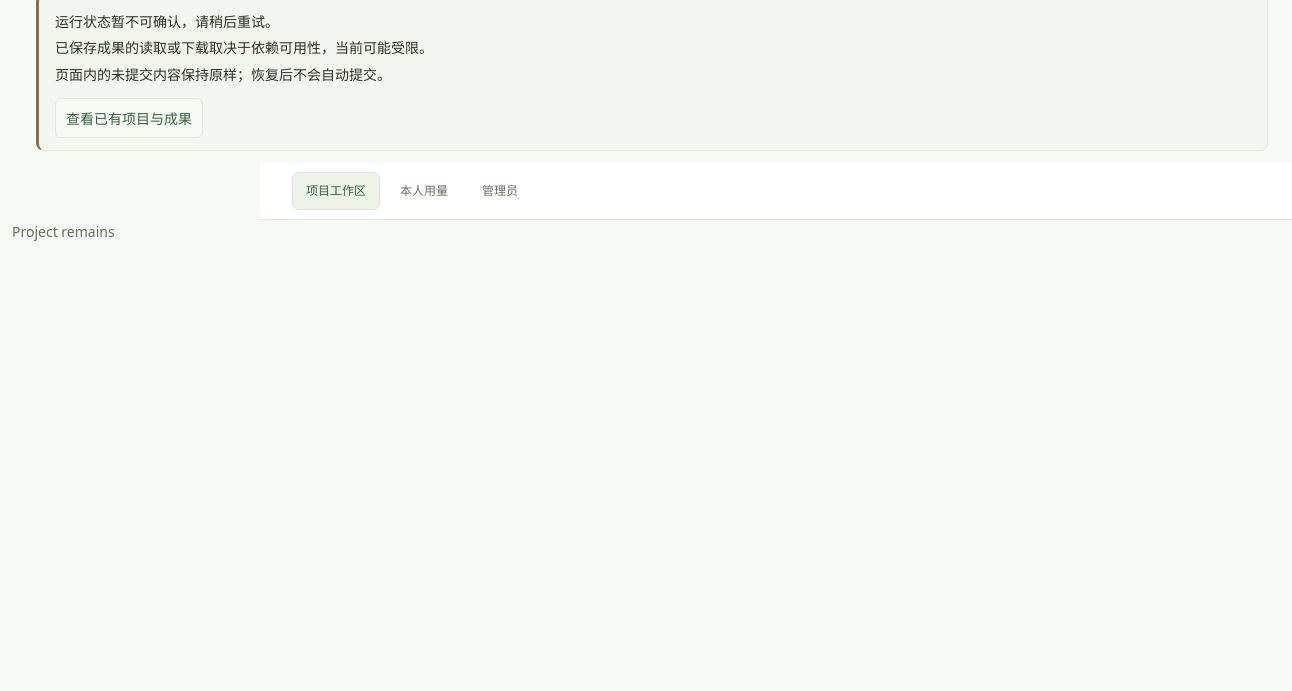
Test: removes retained privileged content after server role revocation
The width and height of the screenshot is (1292, 691).
Click the button "管理员" at (500, 191), box [468,172,532,210]
(page scrolled)
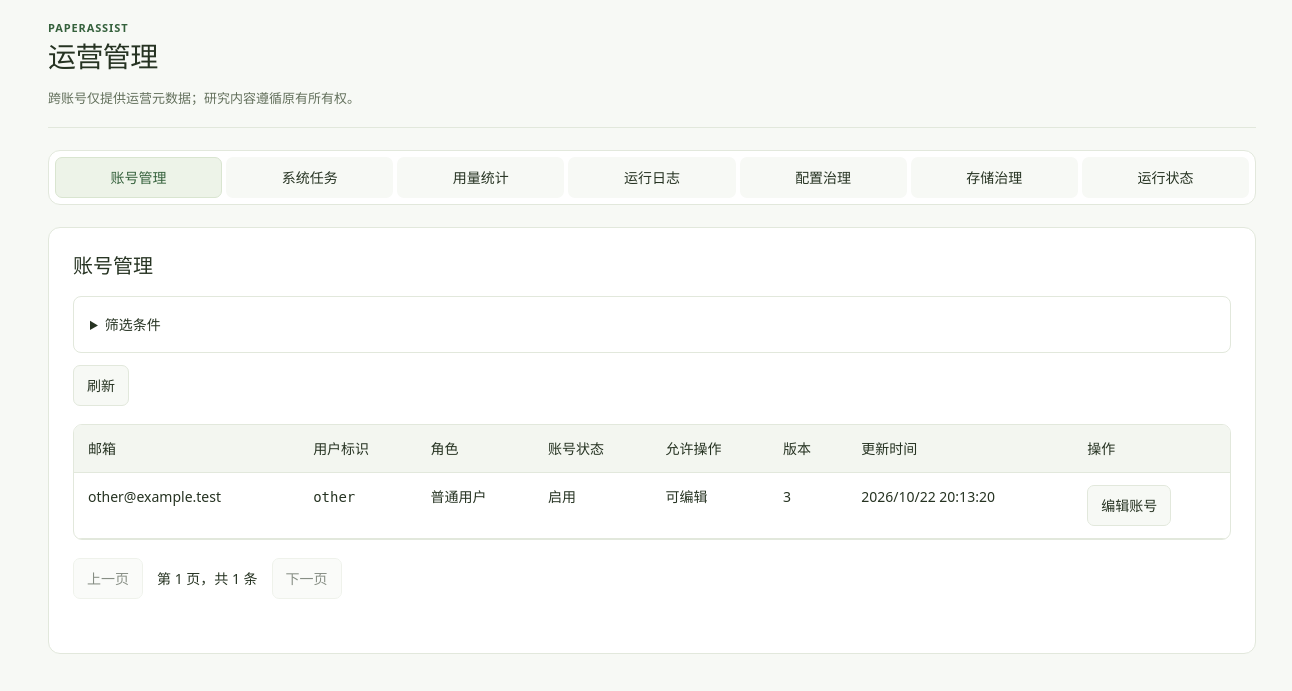
Expected: the text "other@example.test" is shown, [74,472,299,538]
Click the button "编辑账号" at (1129, 505), box [1087,485,1171,526]
(page scrolled)
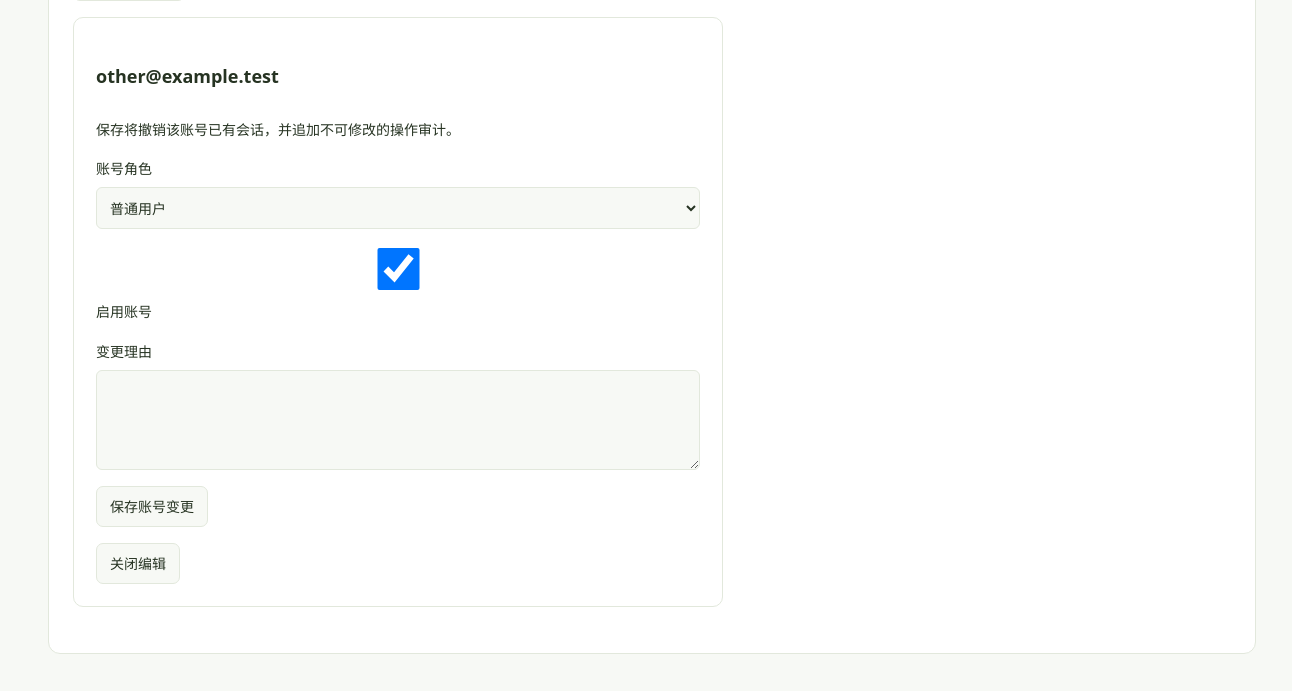
Type "Privileged draft" into the text box labelled "变更理由" at (398, 420), box [96,370,700,470]
(page scrolled)
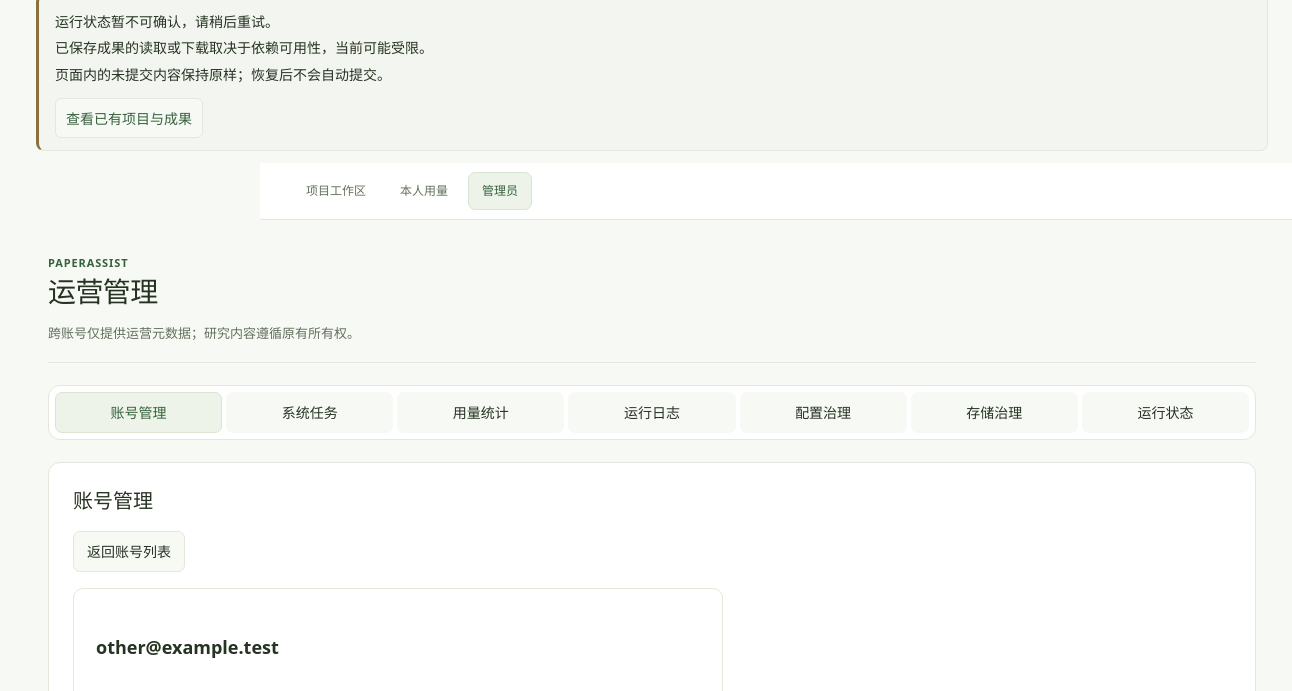
Click the button "项目工作区" at (336, 191), box [292,172,380,210]
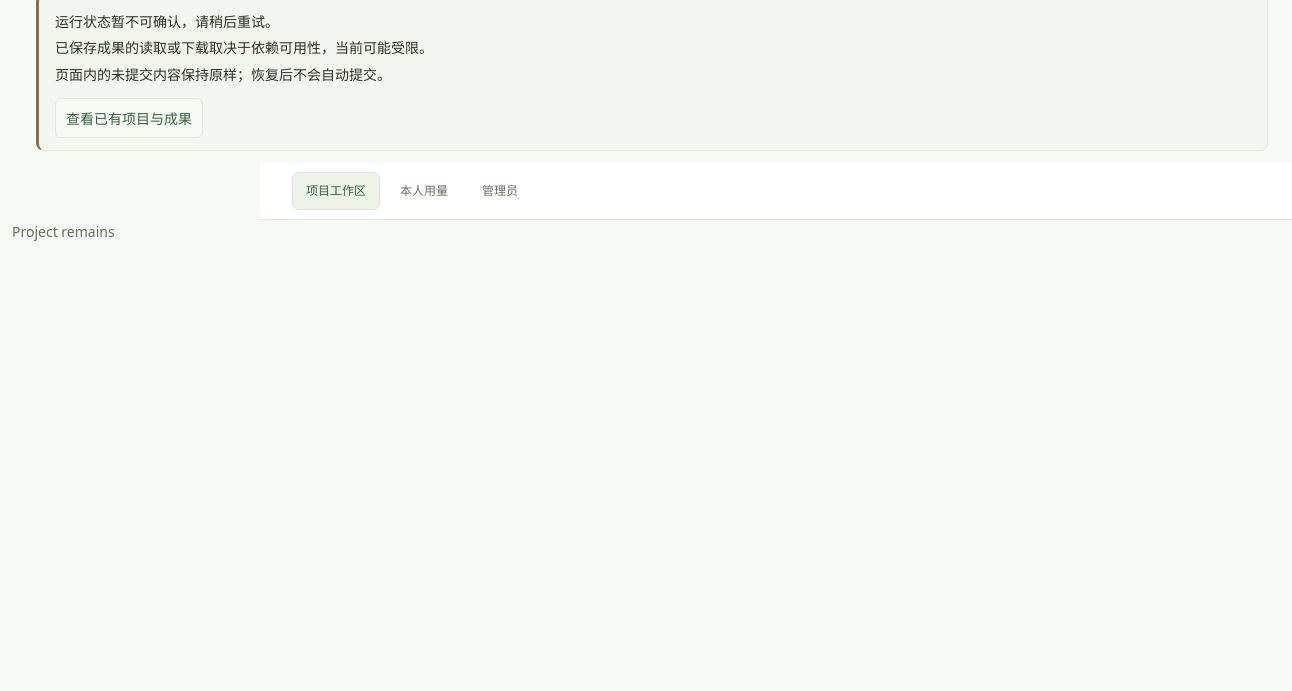
Click the button "管理员" at (500, 191), box [468,172,532,210]
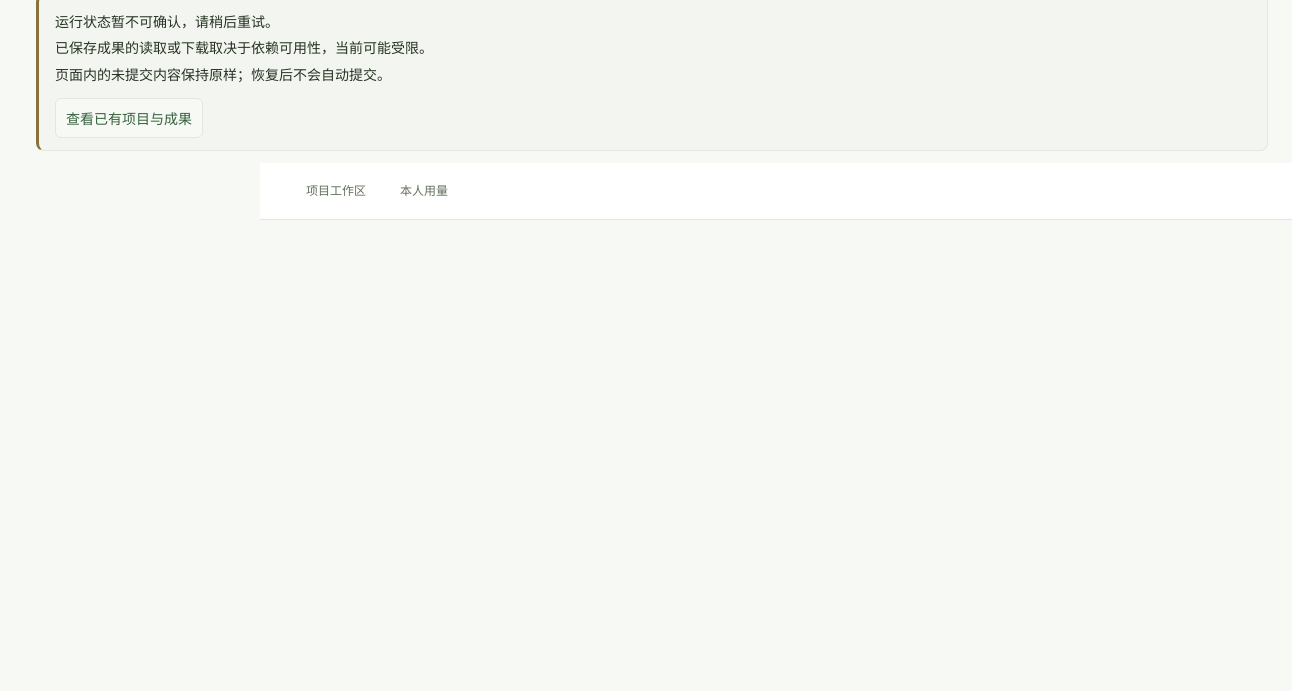
Expected: the text "other@example.test" is not shown
Expected: the button "管理员" is gone
